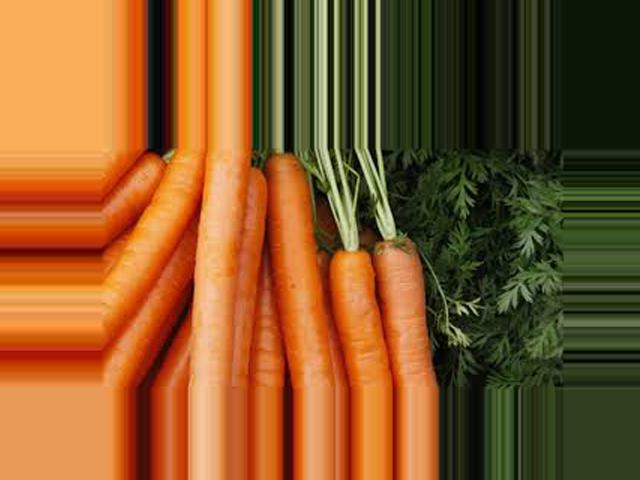carrot: (102, 153, 196, 337)
